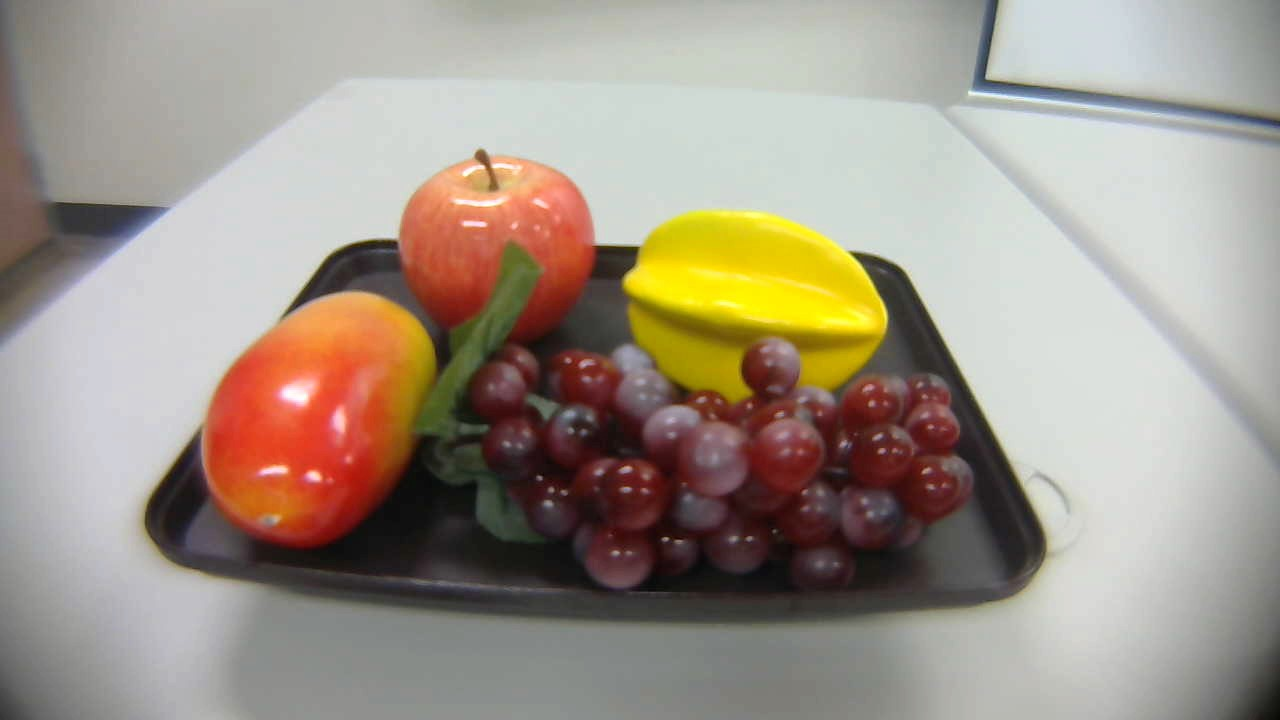grape: (413, 241, 1008, 586)
red apple: (393, 146, 603, 351)
red mango: (197, 278, 442, 564)
star fruit: (623, 208, 897, 404)
